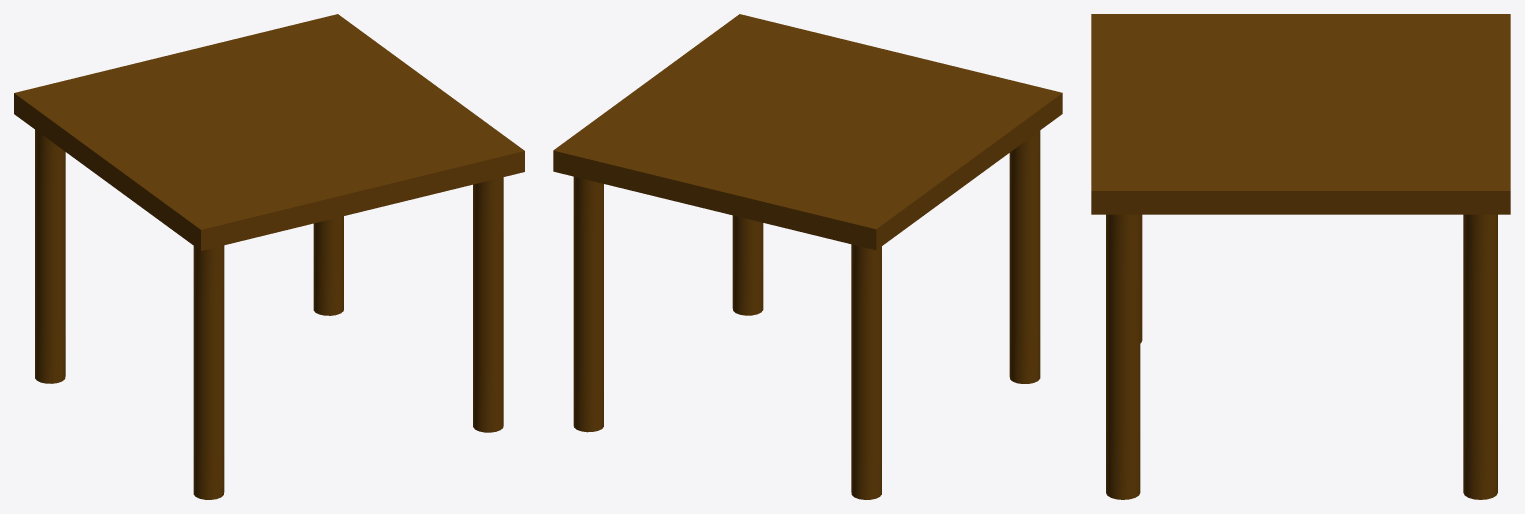
Rendered from Wooden Table.fbx.
3 renders of one model, left to right at view 1: azimuth 30°, elevation 25°; view 2: azimuth 150°, elevation 25°; view 3: azimuth 270°, elevation 25°, orthographic. The views are drawn at different scales.
Parts seen in each view (by area): view 1: Cube, Cylinder_2, Cylinder_3, Cylinder_1, Cylinder; view 2: Cube, Cylinder_1, Cylinder, Cylinder_2, Cylinder_3; view 3: Cube, Cylinder, Cylinder_3.
Boxes of the visible parts, box(x1,y1,x2,y2) form: Cube: box(14, 14, 524, 250); Cylinder_2: box(193, 245, 224, 499); Cylinder_3: box(473, 177, 503, 432); Cylinder_1: box(35, 130, 65, 383); Cylinder: box(313, 216, 343, 315); Cube: box(553, 14, 1062, 250); Cylinder_1: box(851, 244, 881, 499); Cylinder: box(573, 176, 603, 432); Cylinder_2: box(1009, 130, 1040, 383); Cylinder_3: box(732, 215, 763, 315); Cube: box(1091, 14, 1510, 214); Cylinder: box(1463, 214, 1497, 499); Cylinder_3: box(1106, 214, 1140, 499).
Bounding box in the file's own units: 200 × 165 × 200.
